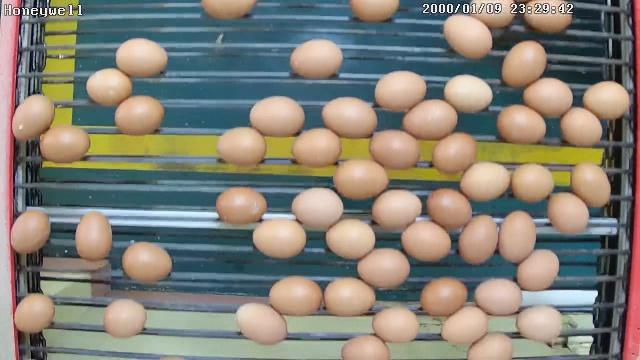egg: (332, 156, 390, 202), (402, 96, 461, 140), (354, 245, 410, 291), (248, 94, 306, 138), (235, 300, 289, 347), (113, 35, 169, 80), (288, 36, 345, 80), (321, 95, 378, 139), (442, 13, 494, 61), (121, 240, 173, 288), (290, 186, 344, 232), (268, 274, 324, 318), (7, 93, 57, 142), (399, 218, 452, 264), (373, 68, 428, 112), (252, 216, 308, 259), (500, 40, 548, 90), (289, 126, 343, 170), (323, 274, 377, 318), (522, 75, 574, 120), (215, 124, 268, 168), (458, 160, 512, 203), (456, 212, 499, 266), (214, 185, 269, 227), (496, 102, 548, 146), (370, 188, 422, 232), (324, 216, 376, 260), (38, 124, 92, 166), (368, 128, 422, 170), (430, 131, 478, 178), (497, 209, 538, 264), (114, 94, 165, 138), (418, 276, 469, 320), (73, 210, 114, 264), (7, 208, 53, 256), (444, 72, 494, 116), (438, 305, 488, 349), (473, 276, 524, 318), (516, 248, 562, 294), (582, 79, 630, 123), (84, 66, 134, 108), (570, 160, 612, 210), (546, 190, 590, 237), (426, 186, 474, 229), (101, 297, 148, 340), (515, 303, 564, 344), (370, 305, 420, 345), (510, 160, 554, 205), (558, 106, 604, 148), (12, 292, 56, 335), (520, 0, 574, 35), (339, 332, 395, 360)
